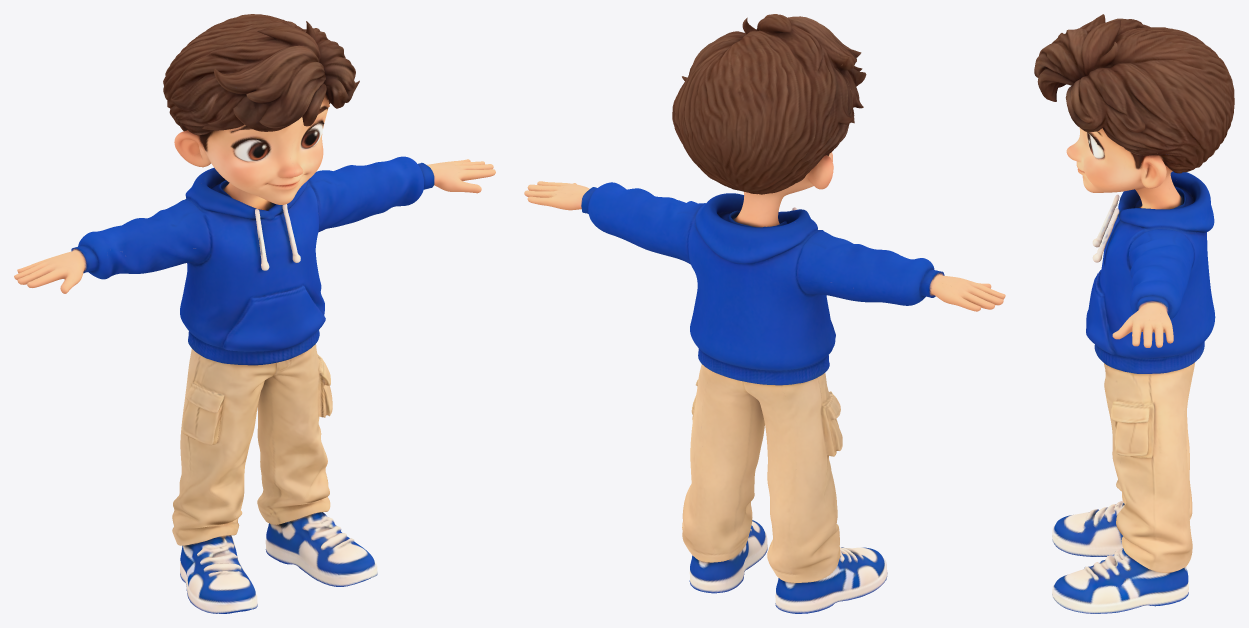
File: base_basic_shaded.fbx
3 renders of one model, left to right at view 1: azimuth 30°, elevation 25°; view 2: azimuth 150°, elevation 25°; view 3: azimuth 270°, elevation 25°, orthographic.
Parts seen in each view (by area): view 1: model; view 2: model; view 3: model.
Part boxes in pixels (left/top/right/bottom): model: left=14, top=14, right=495, bottom=613; model: left=524, top=14, right=1005, bottom=613; model: left=1034, top=14, right=1234, bottom=613.
Size of the model in its own units: 153 by 172 by 56.42.
